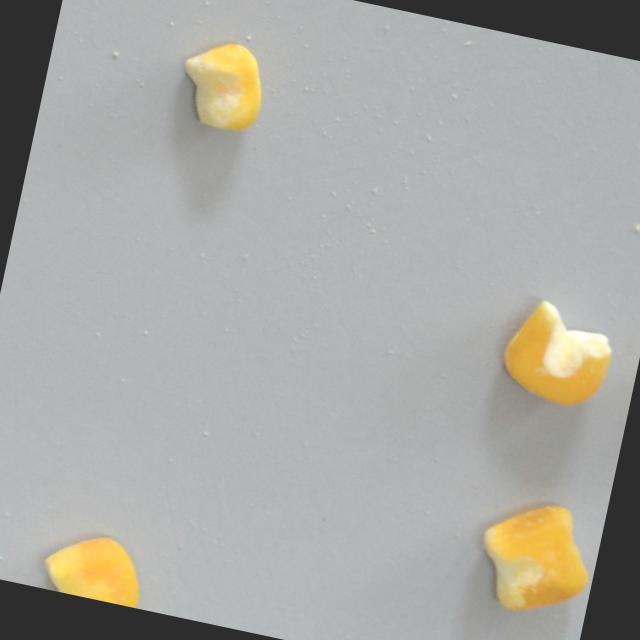no_canjicado: (466, 492, 601, 626), (493, 294, 621, 416), (169, 33, 273, 138), (37, 525, 150, 608)
